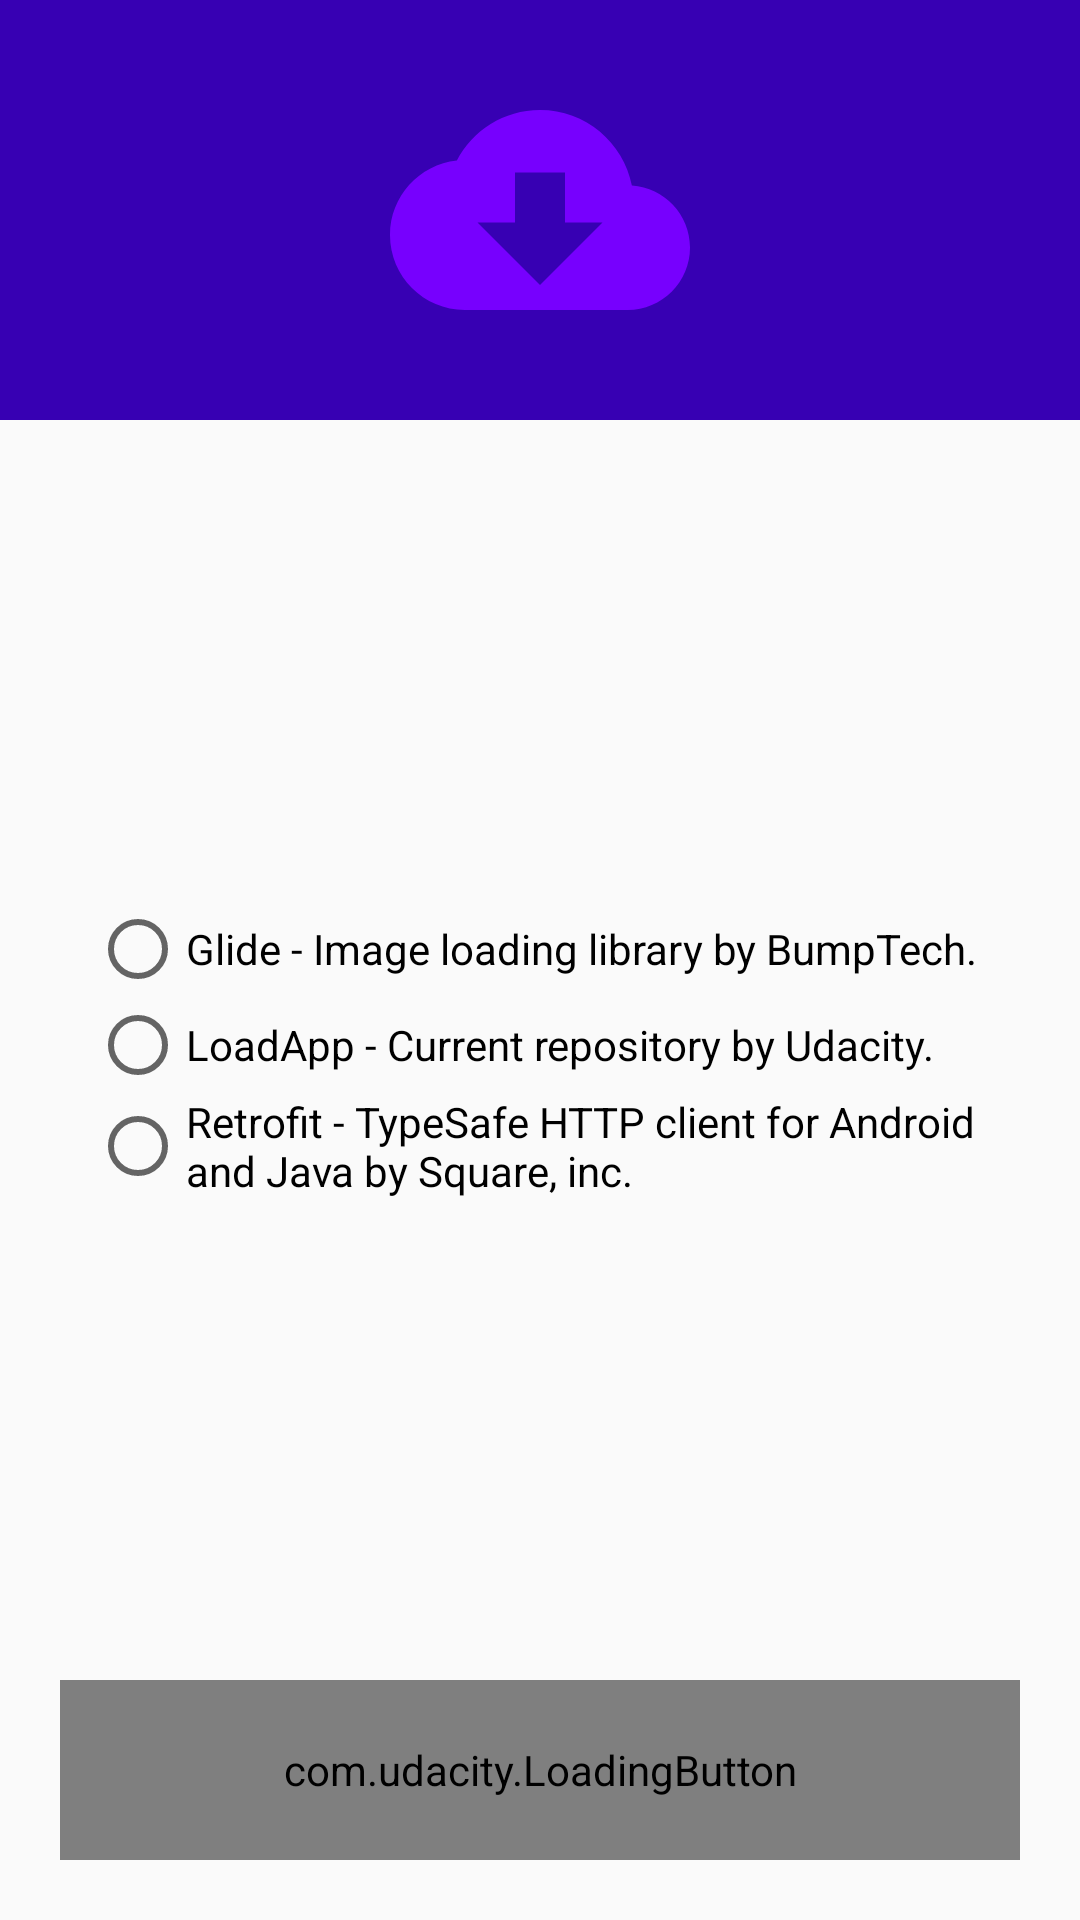

Named icons in this screenshot (1080px x 1920px) and their centers, point (x, y):
cloud download: point (540, 210)
